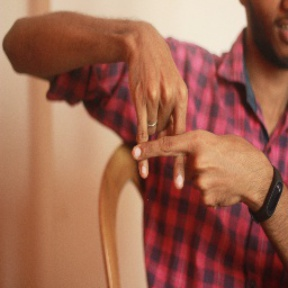H: (98, 80, 227, 197)
